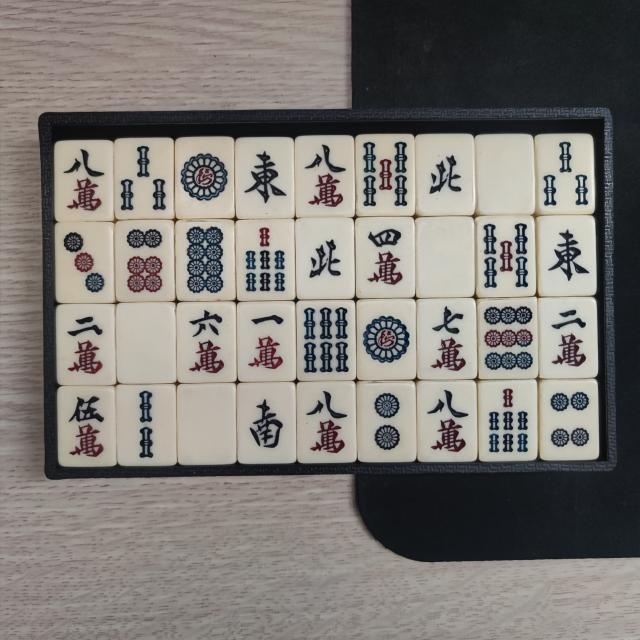hdw: (183, 388, 232, 458), (122, 308, 170, 377), (482, 139, 530, 207), (422, 223, 469, 290)
hwe: (240, 142, 290, 213), (542, 222, 592, 288)
hwn: (302, 222, 349, 292), (420, 138, 466, 207)
hws: (240, 388, 291, 460)
sb2: (123, 390, 173, 462)
sb3: (118, 140, 172, 217), (541, 138, 590, 210)
sb5: (358, 138, 411, 210), (482, 220, 532, 290)
sb6: (300, 306, 353, 376)
sb7: (242, 223, 292, 296), (484, 384, 532, 457)
sc1: (242, 306, 290, 374)
sc2: (59, 312, 110, 381), (544, 304, 594, 372)
sc4: (360, 222, 410, 294)
sc5: (62, 390, 111, 462)
sc6: (182, 307, 230, 377)
sc7: (422, 303, 470, 375)
sc8: (300, 384, 353, 458), (421, 384, 473, 459), (59, 144, 110, 218), (299, 140, 349, 212)
sd1: (178, 141, 230, 213), (360, 306, 413, 376)
sd2: (364, 388, 410, 457)
sd3: (59, 226, 110, 296)
sd4: (546, 385, 593, 453)
sd6: (119, 223, 169, 296)
sd8: (180, 224, 230, 296)
sd9: (481, 302, 536, 376)
